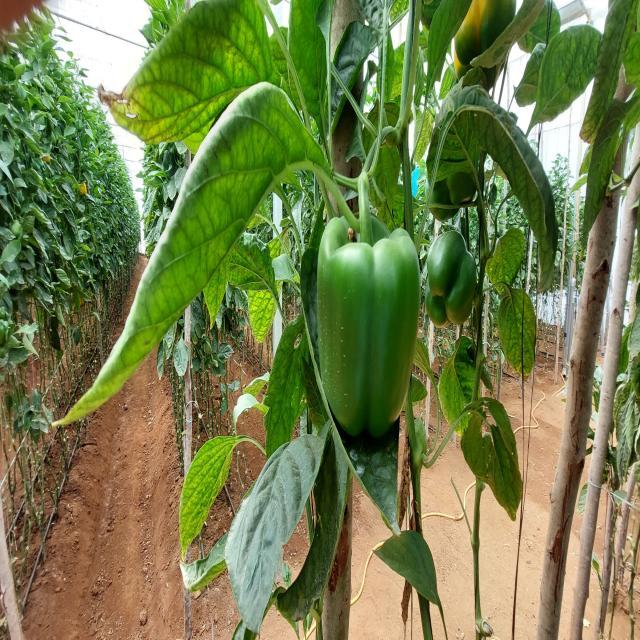Green--Not-ready-to-harvest: (322, 219, 418, 441), (452, 0, 521, 85), (428, 228, 477, 336)
